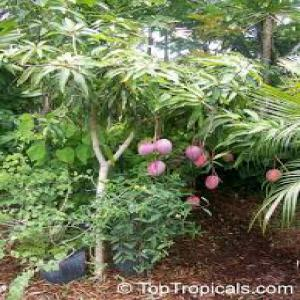Tree: (12, 13, 280, 277)
